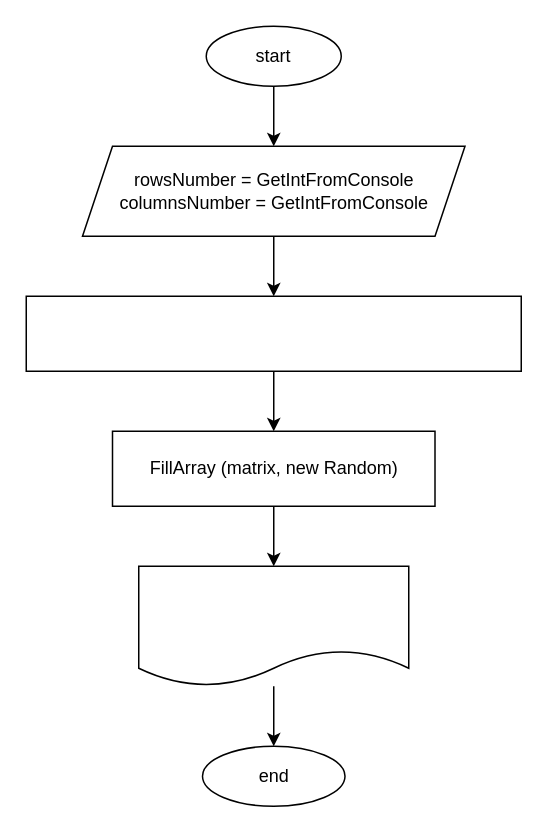
Some shapes in this 548 by 833 pixel diagram are drawn without their labels. Each missing label, with the centre of its shape:
"GoodPrint PrintMinSumRowNumber" belongs at pixel 273 625.
"int [,] matrix new int [rowsNumber, columnsNumber]" belongs at pixel 273 333.
